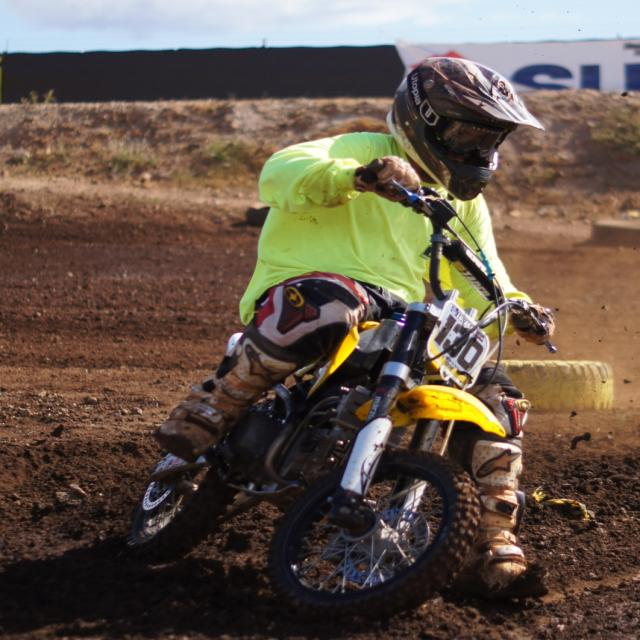Motorbikes: (130, 173, 560, 628)
